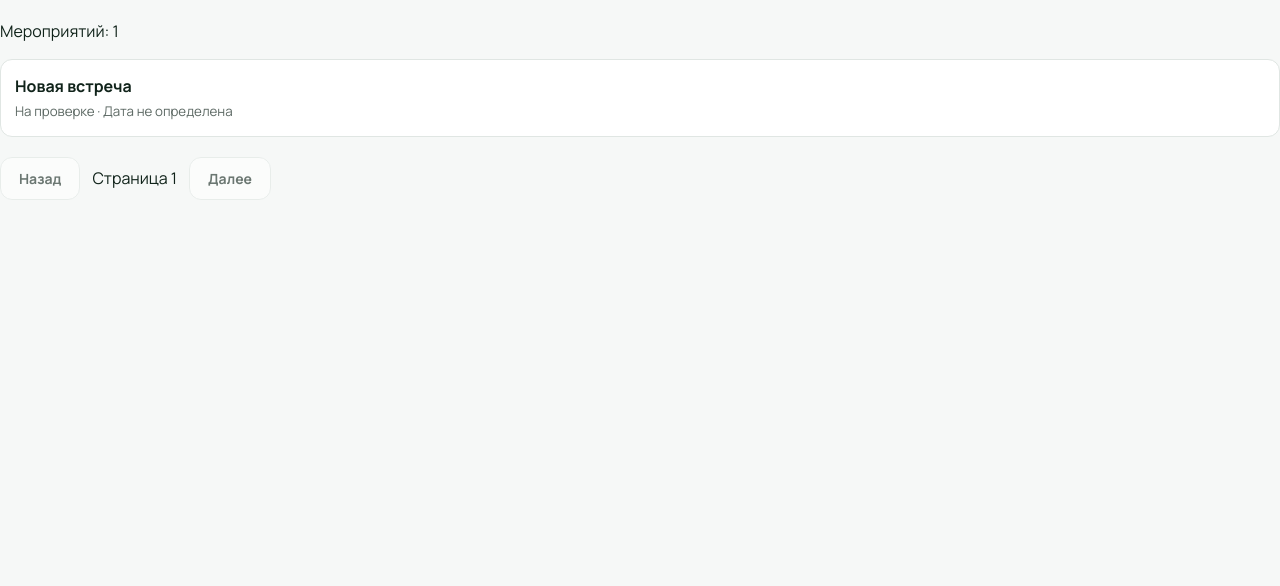
администратор › сохраняет правки при ошибке 422
Step 1. Click the button "Новая встреча На проверке · Дата не определена" → (73, 86), box [0,59,1279,137]
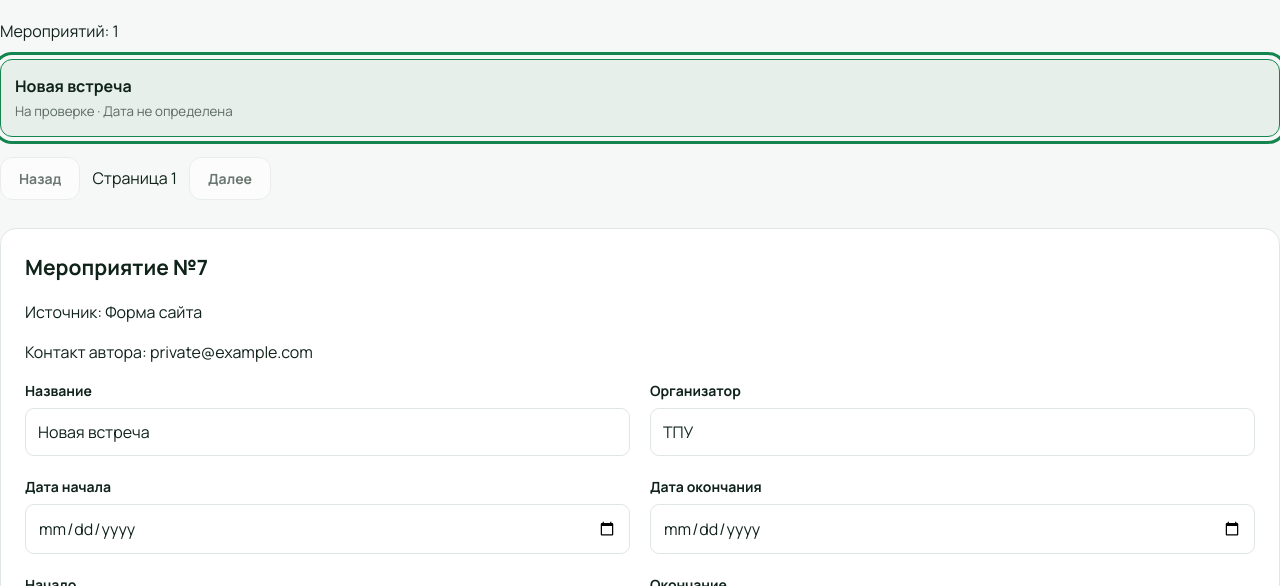
Step 2. Replace the text in the field labelled "Название" with "Исправленное название" → (328, 432), box [25,408,630,456]
(page scrolled)
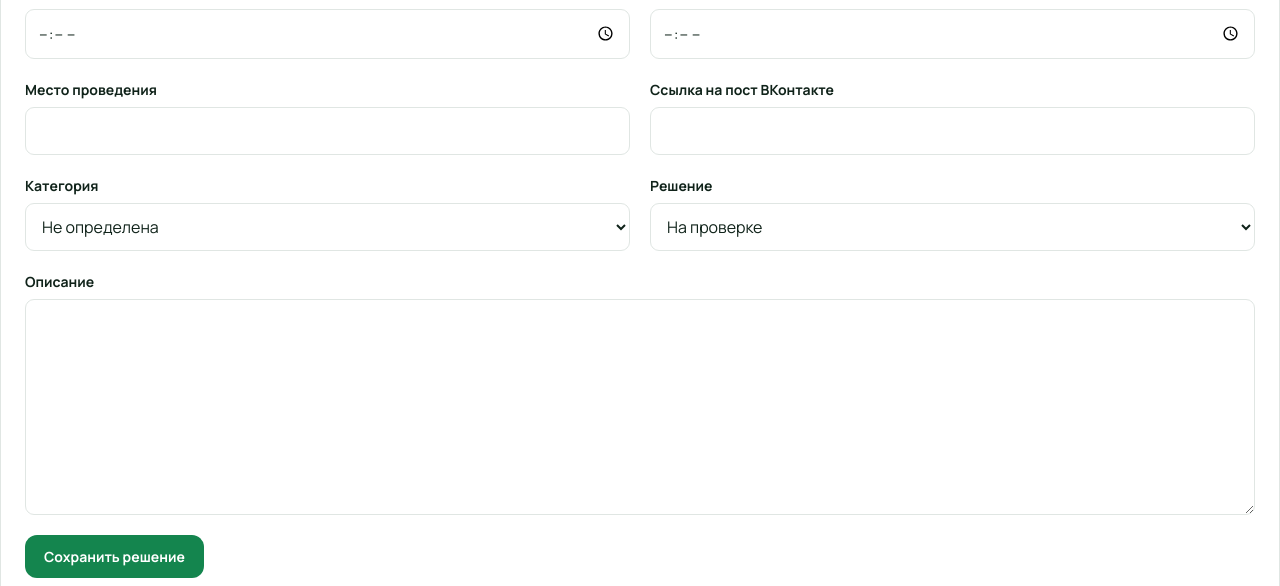
Step 3. Select "Опубликовано" in the dropdown labelled "Решение" → (952, 227), box [650,203,1255,251]
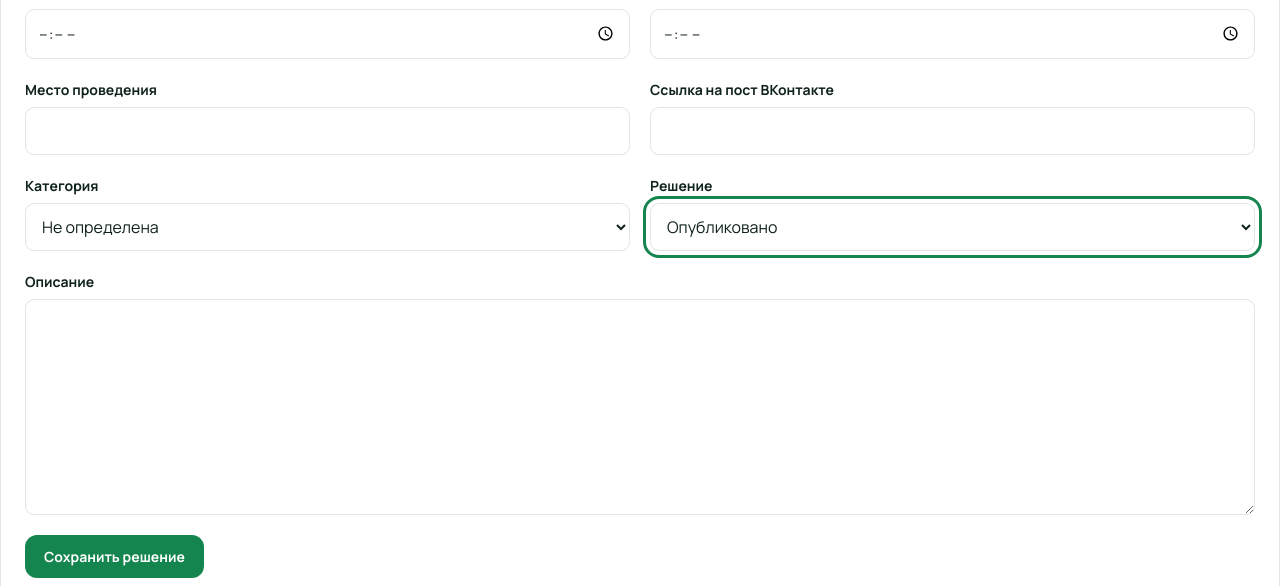
Step 4. Click the button "Сохранить решение" → (114, 556), box [25,535,204,578]
(page scrolled)
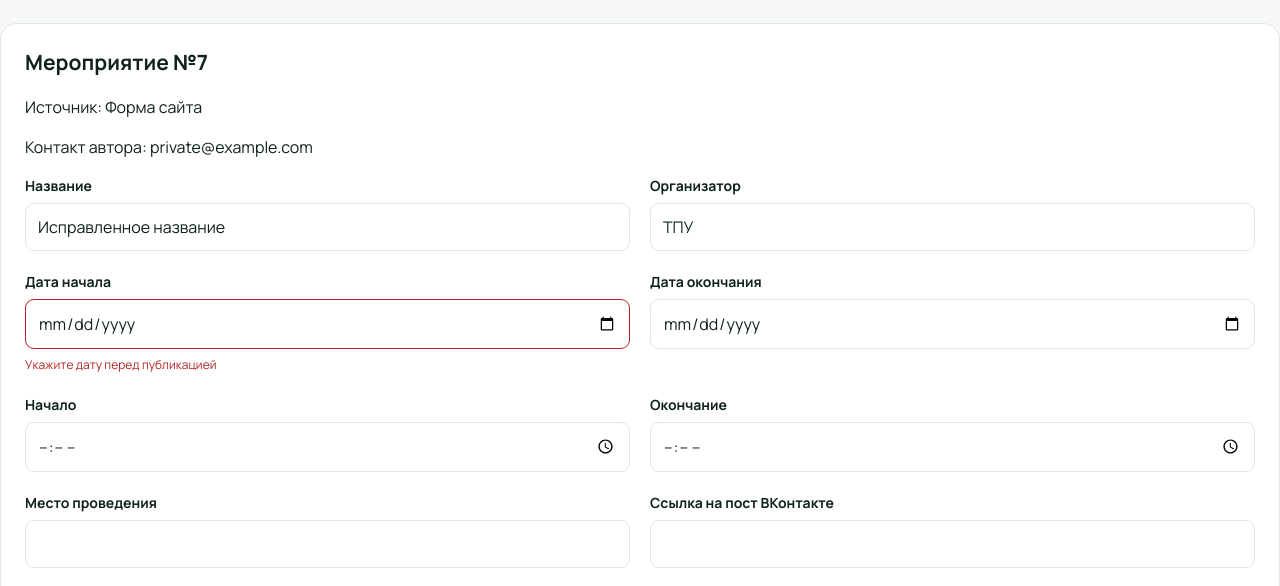
expect the text "Укажите дату перед публикацией" is shown: met, box [25,356,216,373]
